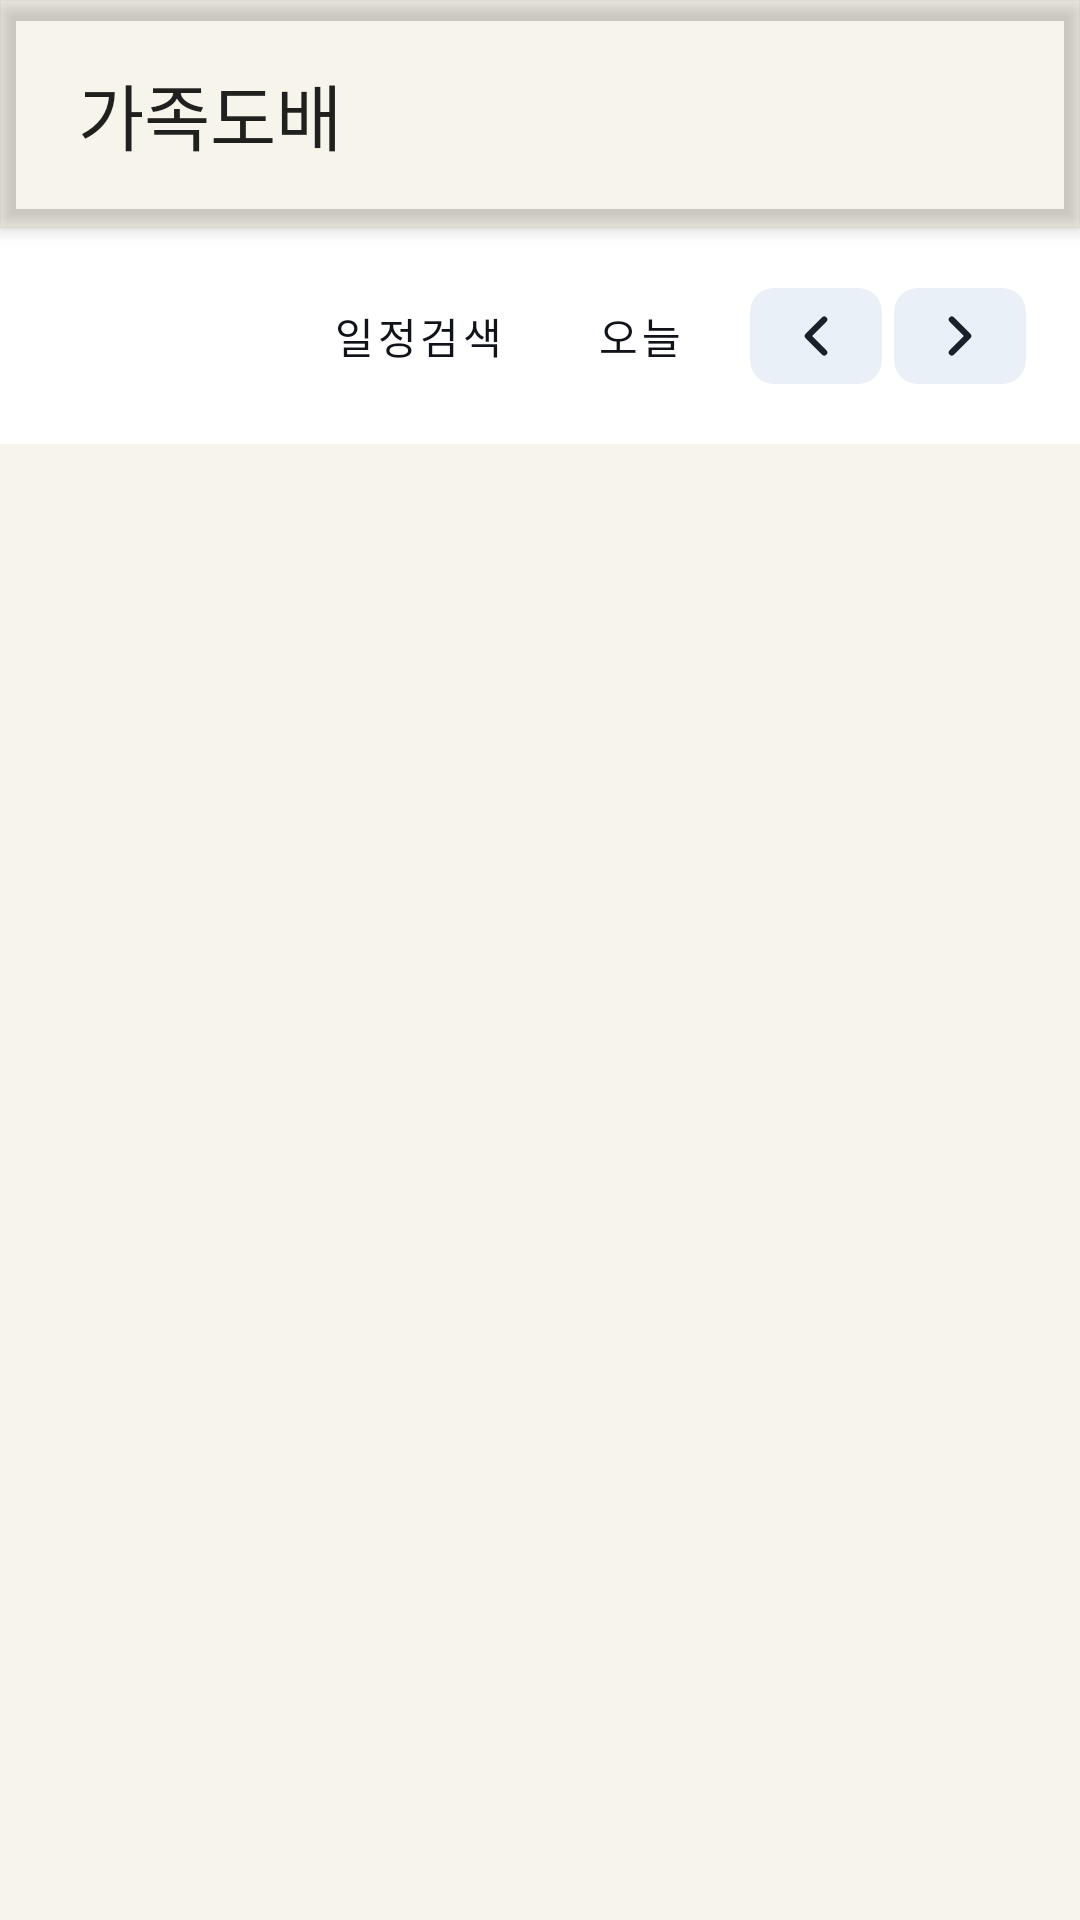

Point at icon controls on the screen. Image size 1080*1920, points as (x,y).
다음 달: (960,336)
이전 달: (816,336)
